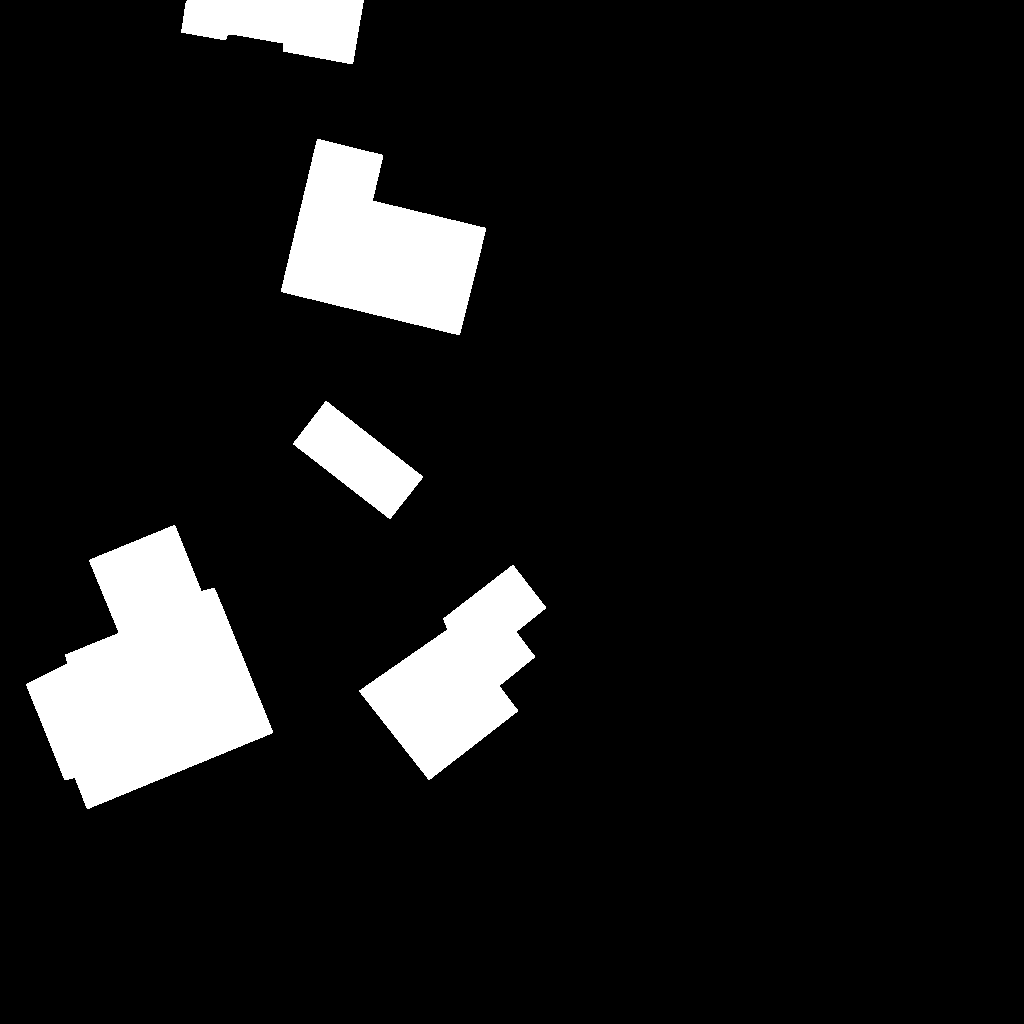building: (26, 525, 274, 810), (359, 565, 547, 781), (281, 139, 487, 336), (293, 401, 424, 520), (181, 0, 365, 65)
